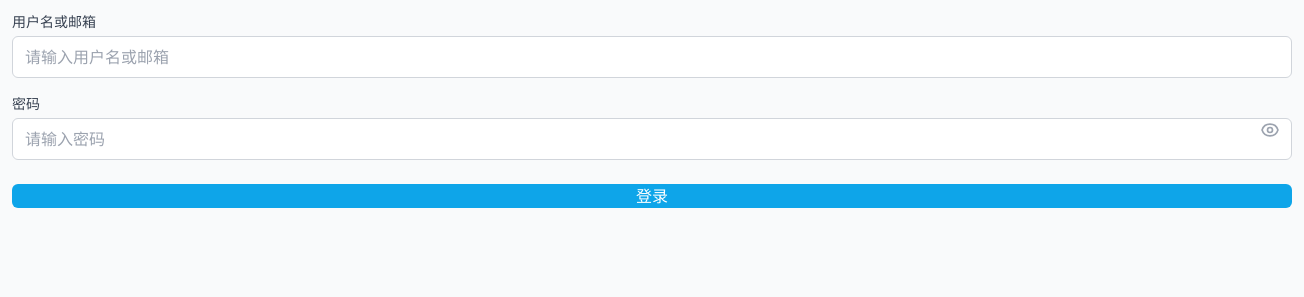
Scenario: LoginForm - 提交失败场景 › 应该处理网络错误
Type "test@example.com" into the field labelled "用户名或邮箱" at (652, 57), box [12,36,1292,78]
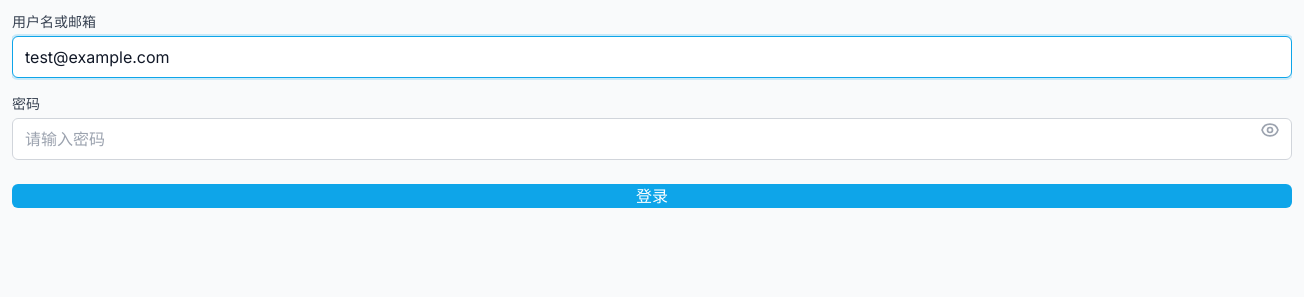
Type "password123" into the password field labelled "密码" at (652, 139), box [12,118,1292,160]
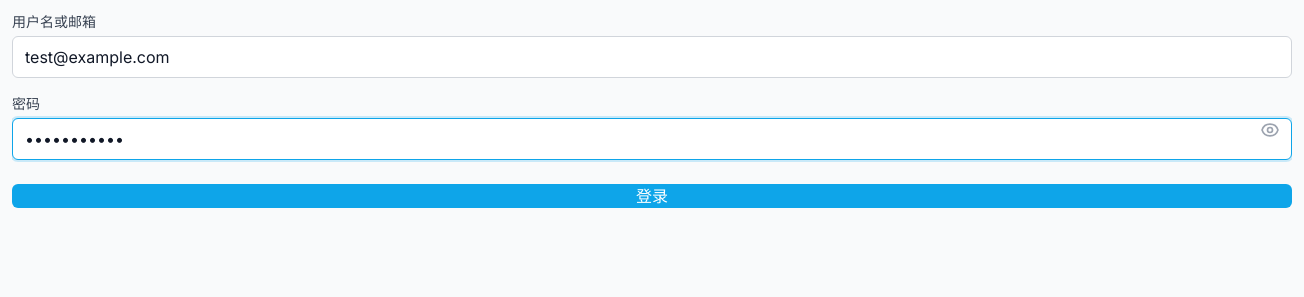
Click the button "登录" at (652, 196), box [12,184,1292,208]
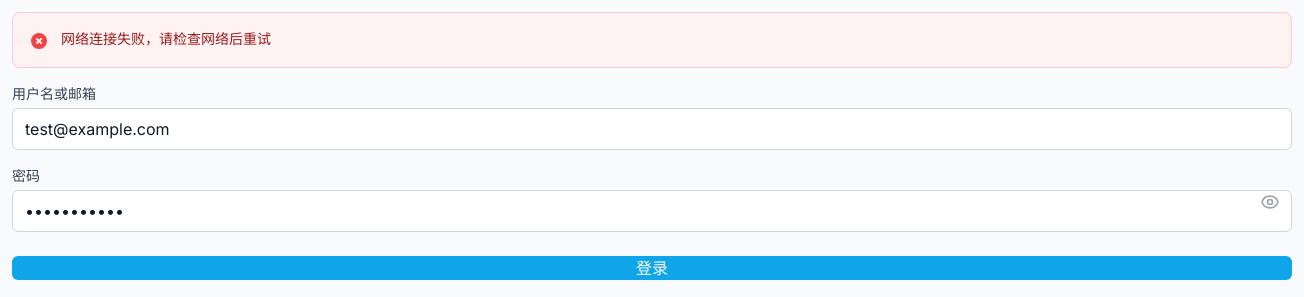
Now the text "网络连接失败，请检查网络后重试" is shown, box [61,30,271,47]
